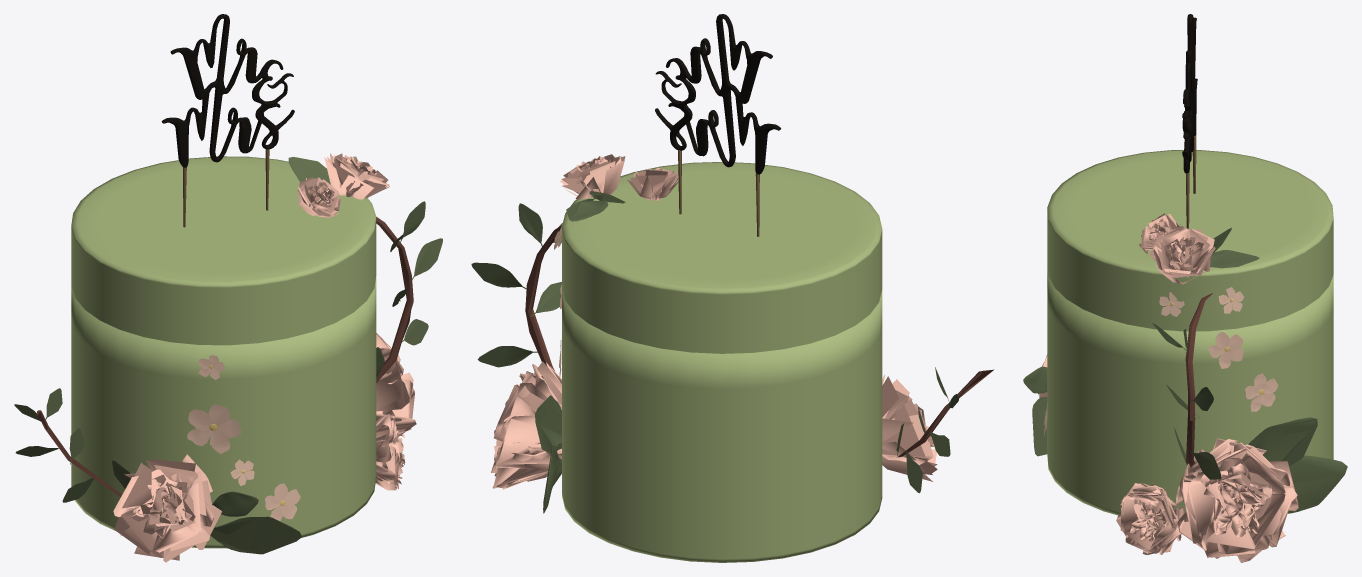
Rendered from 1-tier-pistage-roses-mrms.glb.
The picture shows the model from 3 angles, left to right: view 1: azimuth 30°, elevation 25°; view 2: azimuth 150°, elevation 25°; view 3: azimuth 270°, elevation 25°; orthographic projection. The views are drawn at different scales.
Parts seen in each view (by area): view 1: Cylinder.019, grid.039, mrms.001, Plane.083, Plane.074, Plane.075, grid.038, grid.041, grid.033, Sphere.050, grid.035, Sphere.054 (+2 smaller); view 2: Cylinder.019, mrms.001, grid.038, Plane.083, grid.039, grid.041, Plane.075, Plane.079, grid.035, Plane.086; view 3: Cylinder.019, grid.038, grid.033, grid.041, Plane.083, mrms.001, Plane.080, Plane.079, Sphere.057, Sphere.059, Plane.074, grid.035 (+3 smaller).
Part boxes in pixels (<box>): Cylinder.019: <box>71,156,376,548</box>; grid.039: <box>113,454,221,562</box>; mrms.001: <box>161,14,294,227</box>; Plane.083: <box>376,201,442,382</box>; Plane.074: <box>210,516,301,554</box>; Plane.075: <box>14,388,130,502</box>; grid.038: <box>376,333,416,437</box>; grid.041: <box>324,153,389,199</box>; grid.033: <box>375,414,405,490</box>; Sphere.050: <box>187,404,241,453</box>; grid.035: <box>298,177,340,217</box>; Sphere.054: <box>265,483,300,520</box>; Cylinder.019: <box>562,162,882,562</box>; mrms.001: <box>655,14,781,236</box>; grid.038: <box>491,361,561,489</box>; Plane.083: <box>471,203,562,370</box>; grid.039: <box>882,374,937,481</box>; grid.041: <box>560,154,625,199</box>; Plane.075: <box>896,367,993,493</box>; Plane.079: <box>535,395,561,453</box>; grid.035: <box>627,167,678,200</box>; Plane.086: <box>566,199,608,221</box>; Cylinder.019: <box>1047,150,1333,515</box>; grid.038: <box>1176,438,1298,562</box>; grid.033: <box>1116,482,1183,554</box>; grid.041: <box>1149,226,1215,284</box>; Plane.083: <box>1152,293,1221,479</box>; mrms.001: <box>1182,14,1197,228</box>; Plane.080: <box>1287,455,1347,513</box>; Plane.079: <box>1248,417,1317,466</box>; Sphere.057: <box>1208,332,1243,368</box>; Sphere.059: <box>1245,373,1278,411</box>; Plane.074: <box>1032,397,1047,456</box>; grid.035: <box>1139,213,1180,253</box>.
Bounding box in the file's own units: 4.49 × 4.63 × 2.9.
